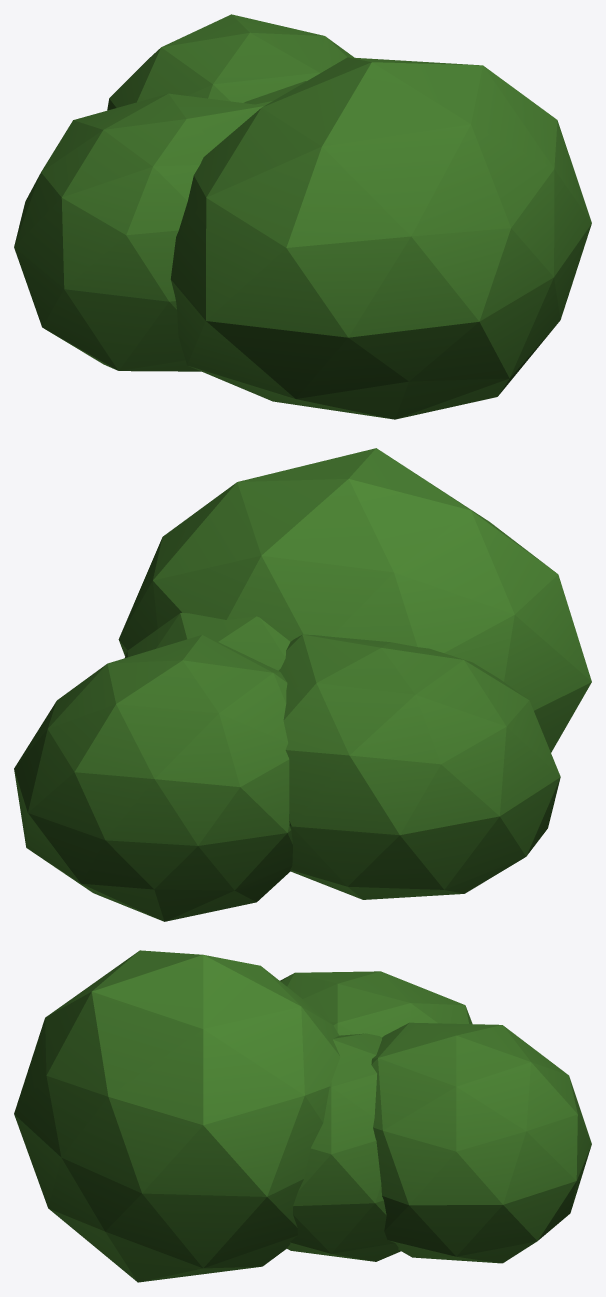
File: bush_a.glb
3 views of the same model, one above another, from view 1: azimuth 30°, elevation 25°; view 2: azimuth 150°, elevation 25°; view 3: azimuth 270°, elevation 25° (orthographic). The views are drawn at different scales.
Parts seen in each view (by area): view 1: Bush_deco; view 2: Bush_deco; view 3: Bush_deco.
Part boxes in pixels (left/top/right/bottom): Bush_deco: left=14, top=14, right=591, bottom=419; Bush_deco: left=14, top=448, right=591, bottom=921; Bush_deco: left=14, top=950, right=591, bottom=1282.
Bounding box in the file's own units: 1.46 × 1.08 × 1.84.
